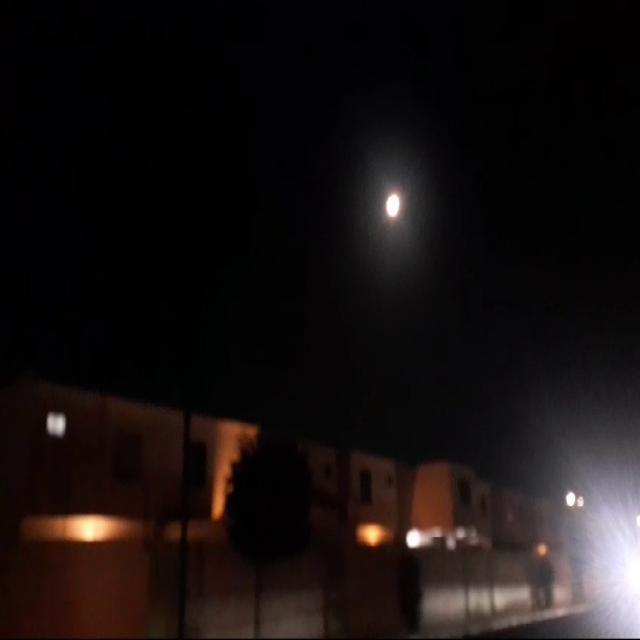moon: (382, 188, 401, 222)
